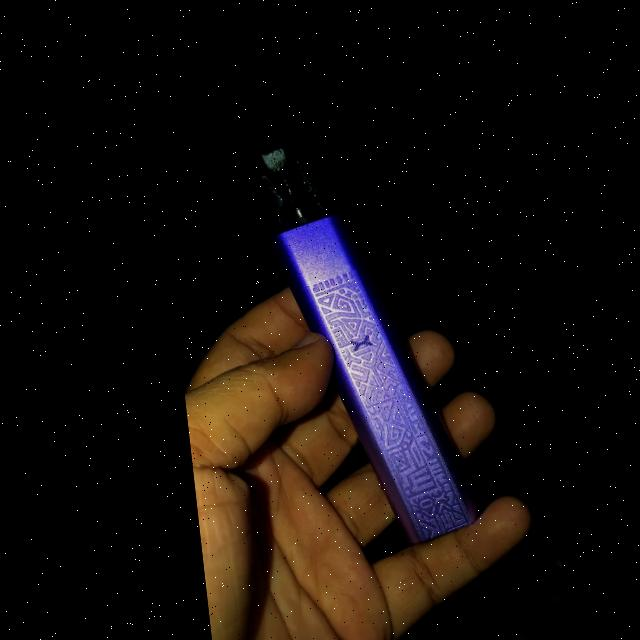vape: (244, 142, 478, 546)
